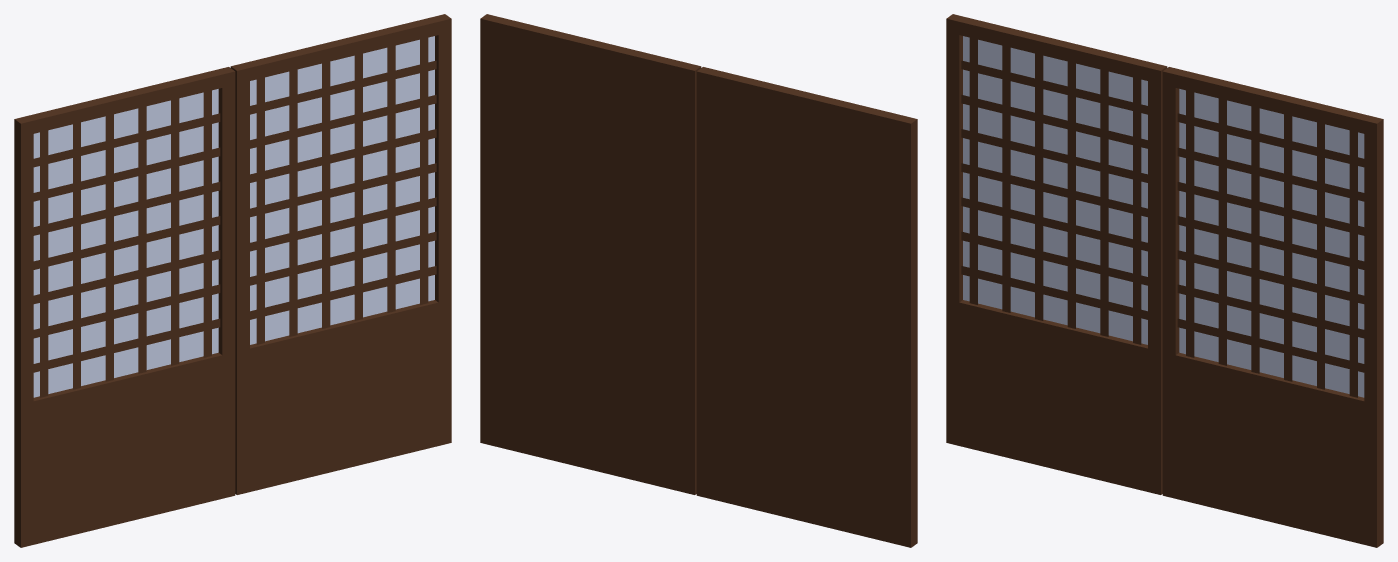
The model's file is puerta.glb.
3 renders of one model, left to right at view 1: azimuth 30°, elevation 25°; view 2: azimuth 150°, elevation 25°; view 3: azimuth 330°, elevation 25°, orthographic.
Visible parts, largest first — view 1: Door 1.001; view 2: Door 1.001; view 3: Door 1.001.
Boxes of the visible parts, <box> form: Door 1.001: <box>14,14,451,547</box>; Door 1.001: <box>480,14,917,547</box>; Door 1.001: <box>946,14,1383,547</box>.
Size of the model in its own units: 0.7173 by 0.6752 by 0.0184.
